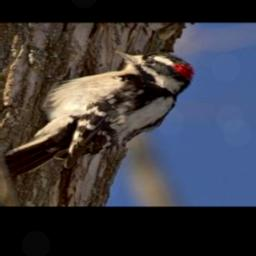Woodpecker: (4, 49, 196, 177)
